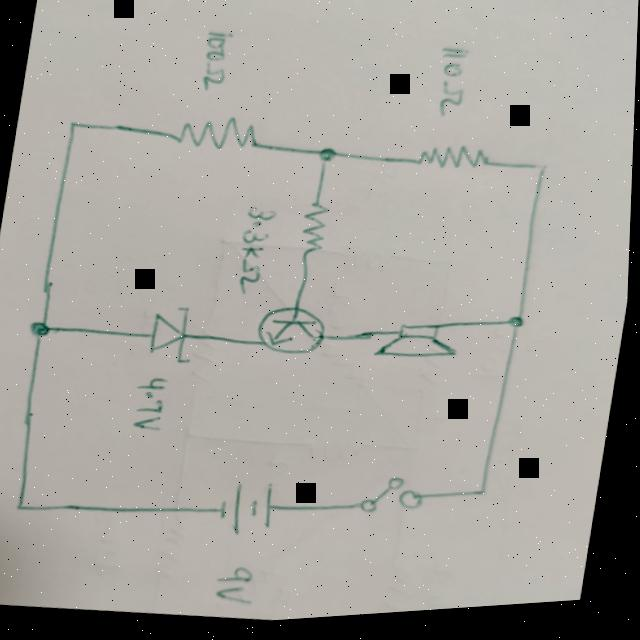diode: (147, 303, 202, 368)
junction: (25, 310, 63, 345), (315, 141, 343, 175), (506, 317, 532, 342), (473, 488, 498, 507), (532, 166, 554, 181), (66, 117, 85, 133), (15, 498, 34, 514)
resistor: (175, 110, 266, 159), (414, 143, 501, 182), (298, 200, 337, 262)
source: (219, 481, 281, 544)
switch: (361, 474, 433, 526)
text: (236, 208, 284, 301), (432, 50, 472, 126), (134, 374, 174, 434), (216, 564, 264, 610), (202, 31, 236, 92)
transistor: (257, 302, 334, 363)
